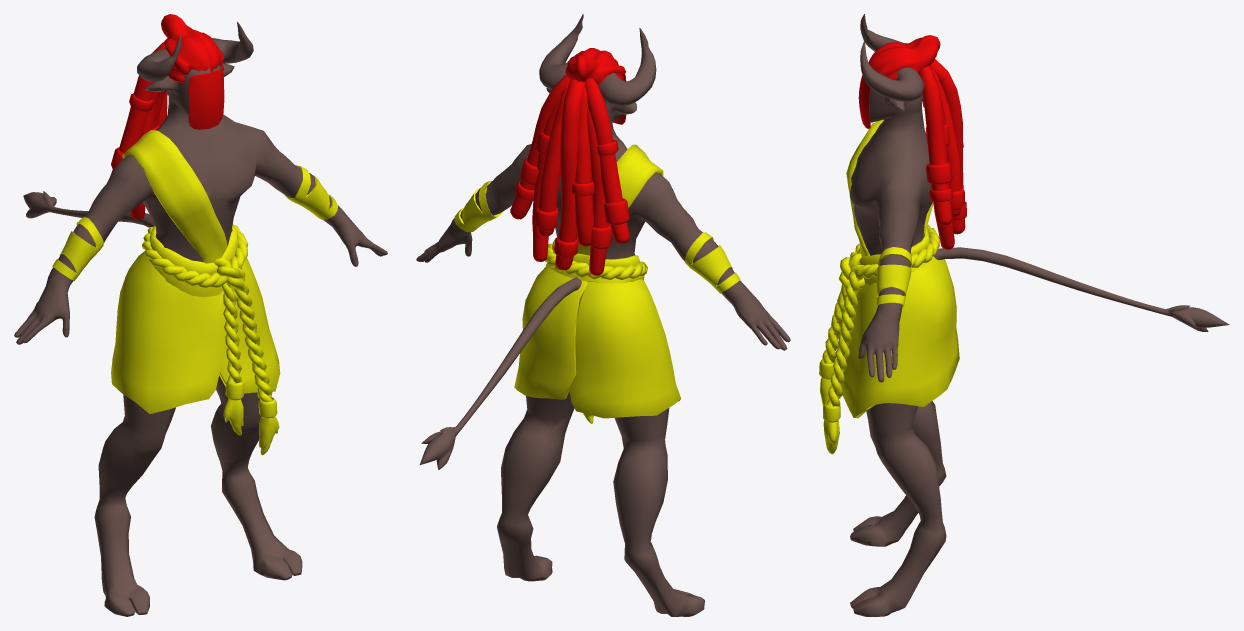
The model's file is Model_NPC_Blaze.fbx.
3 views of the same model, side by side, from view 1: azimuth 30°, elevation 25°; view 2: azimuth 150°, elevation 25°; view 3: azimuth 270°, elevation 25° (orthographic). The views are drawn at different scales.
Parts seen in each view (by area): view 1: Model_NPC_Blaze; view 2: Model_NPC_Blaze; view 3: Model_NPC_Blaze.
Boxes of the visible parts, box(x1,y1,x2,y2) form: Model_NPC_Blaze: box(14, 14, 387, 616); Model_NPC_Blaze: box(416, 14, 790, 616); Model_NPC_Blaze: box(819, 14, 1229, 616).
Bounding box in the file's own units: 1.36 × 2 × 1.36.
